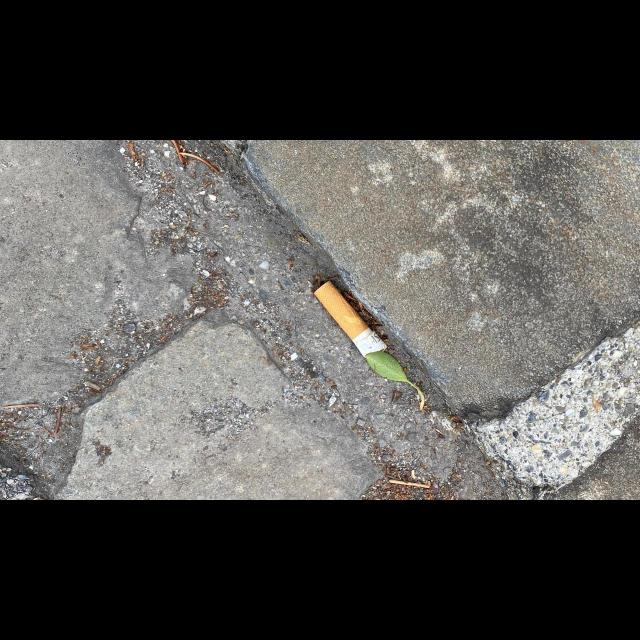cigarette: (313, 279, 388, 359)
